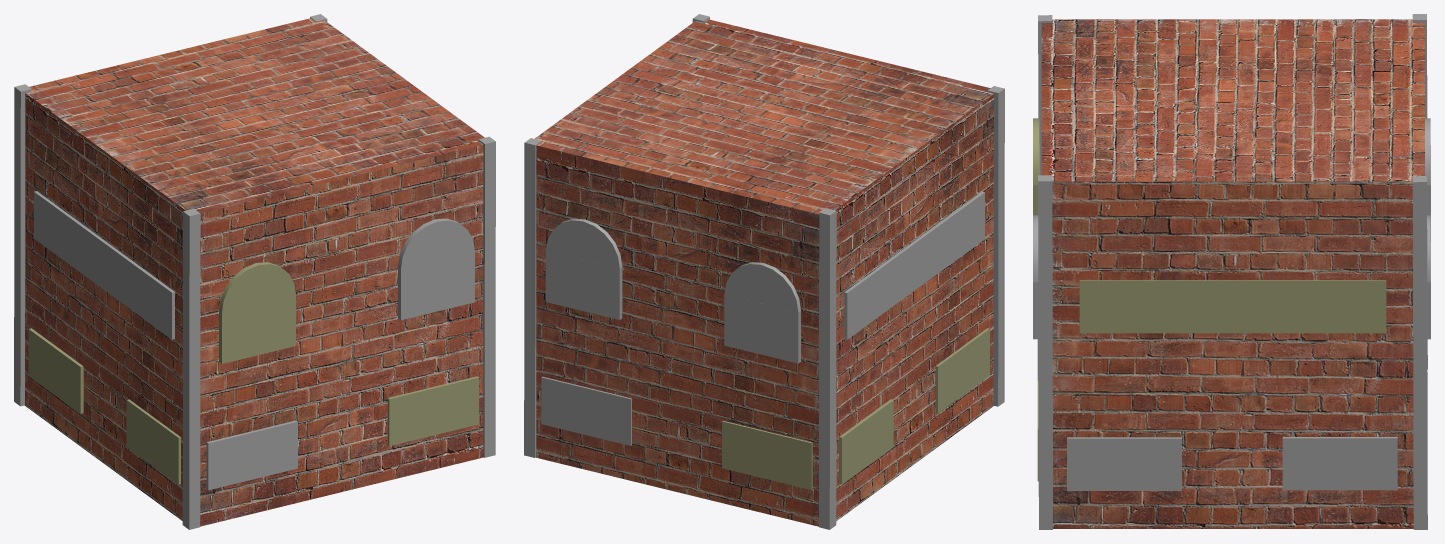
The model's file is sm_distantBuildings.fbx.
3 renders of one model, left to right at view 1: azimuth 30°, elevation 25°; view 2: azimuth 150°, elevation 25°; view 3: azimuth 270°, elevation 25°, orthographic. The views are drawn at different scales.
Visible parts, largest first — view 1: polySurface68; view 2: polySurface68; view 3: polySurface68.
Boxes of the visible parts, box(x1,y1,x2,y2) form: polySurface68: box(14, 14, 495, 529); polySurface68: box(524, 14, 1004, 529); polySurface68: box(1033, 14, 1430, 529).
Size of the model in its own units: 1026 by 1030 by 1037.
